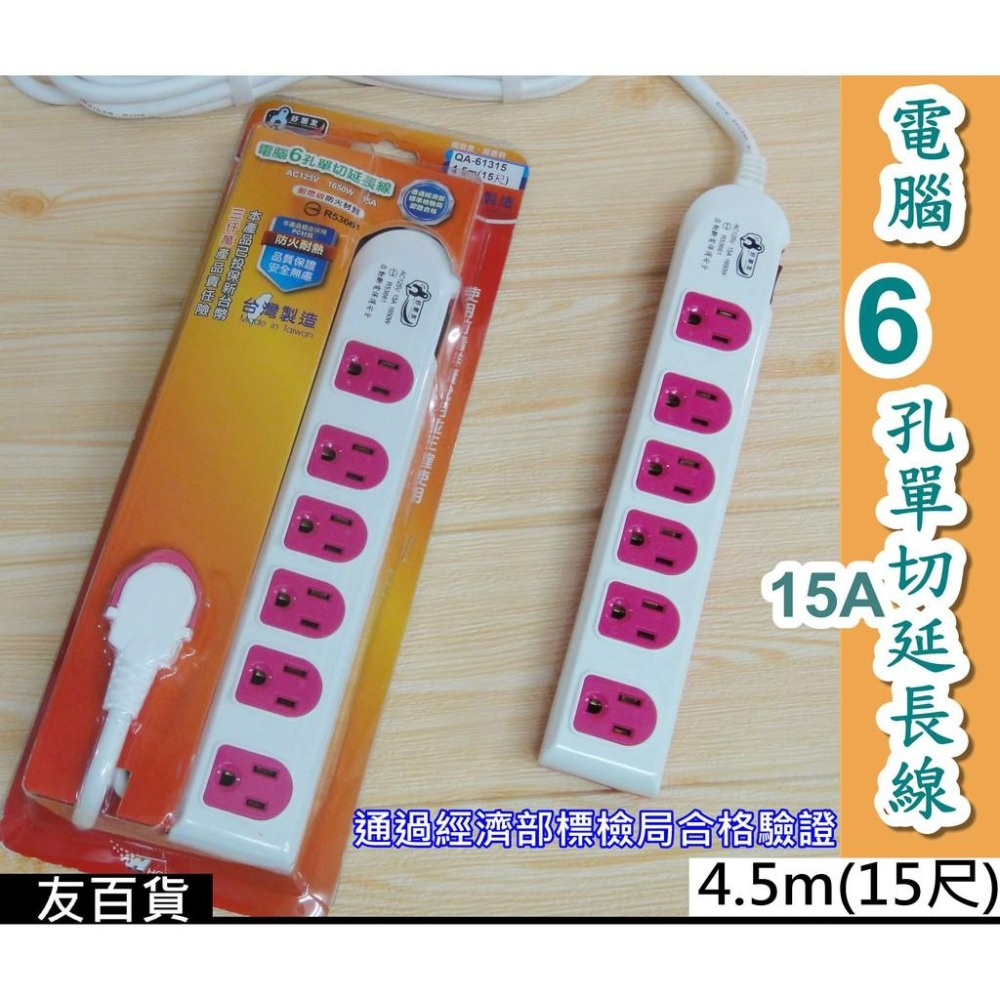socket: (167, 225, 460, 873), (537, 147, 790, 800)
